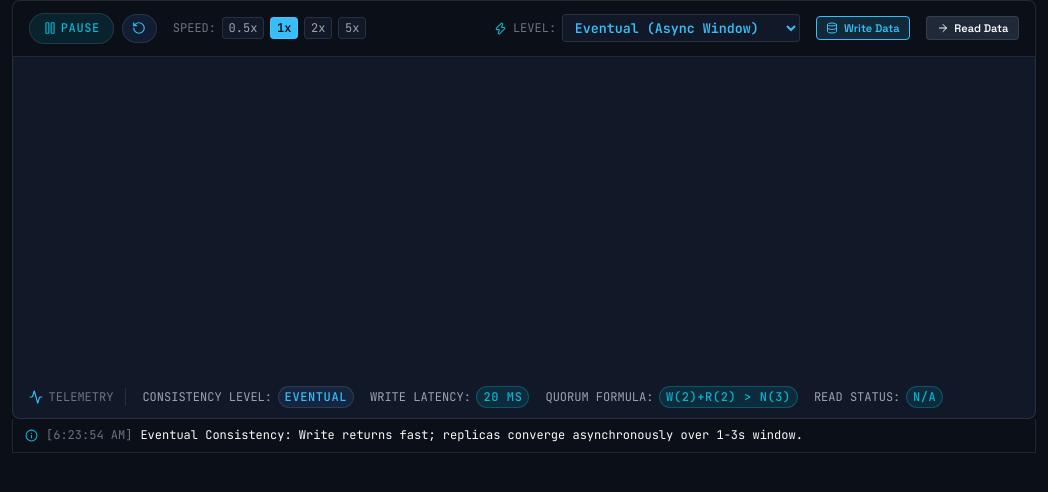
Test: ConsistencyVisualizer (Catalog Viz #6) › handles Read Data button click
Click the button "Read Data" at point(973, 28), box [926,16,1019,40]
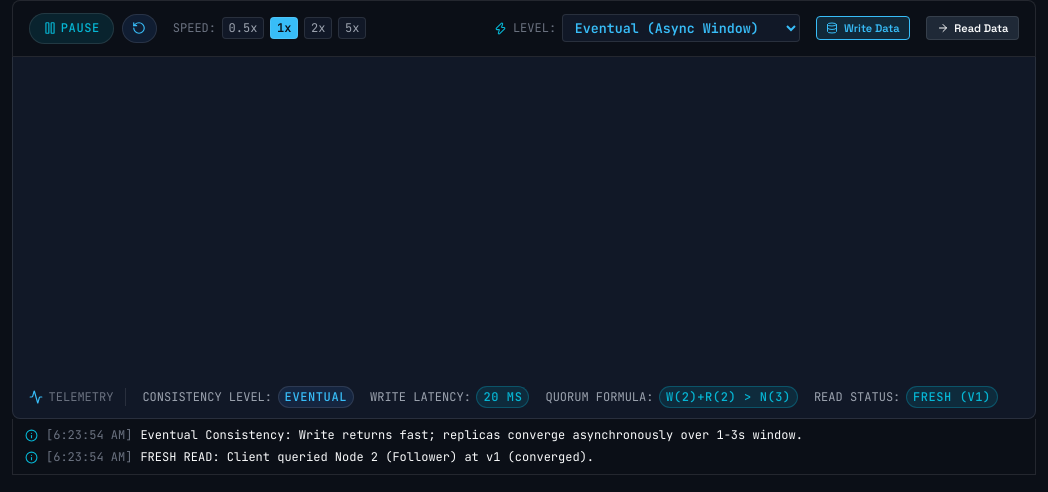
Now the text "READ: Client queried Node" is shown, box [140,449,594,465]
